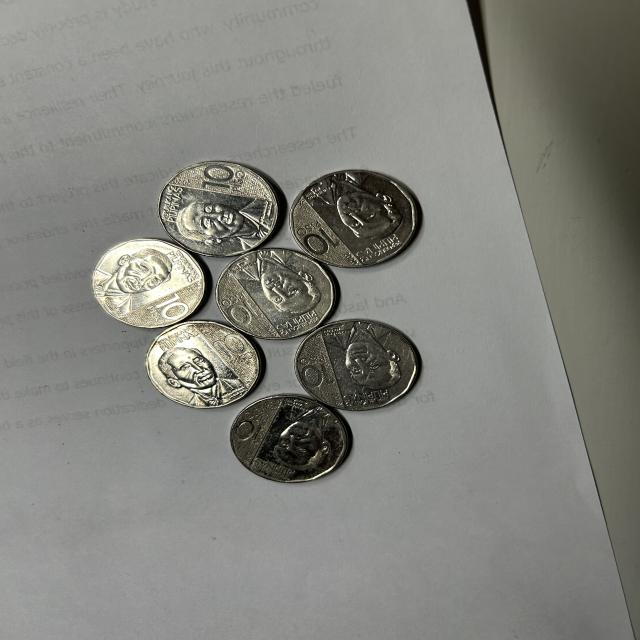10_New_Front: (217, 285, 266, 330), (206, 330, 253, 368), (145, 291, 190, 328), (196, 164, 248, 196), (300, 216, 338, 259), (233, 404, 267, 448), (299, 350, 333, 392)
